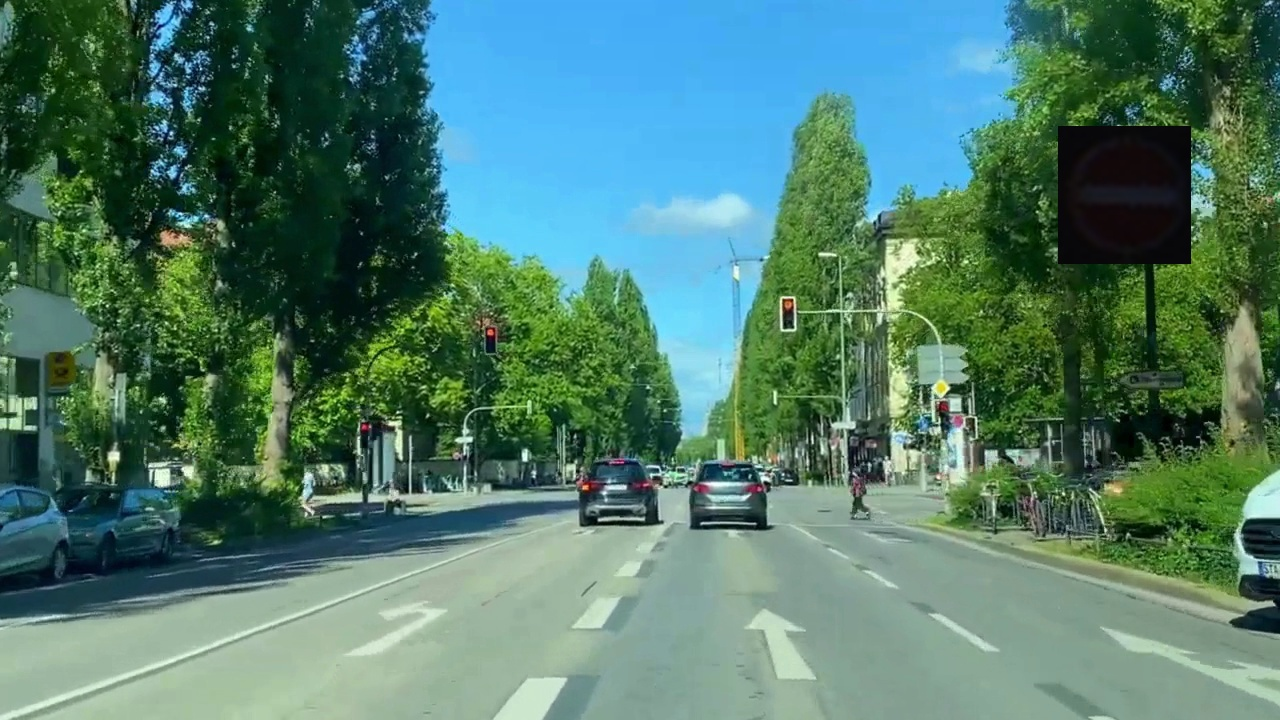No entry: (1058, 126, 1191, 264)
